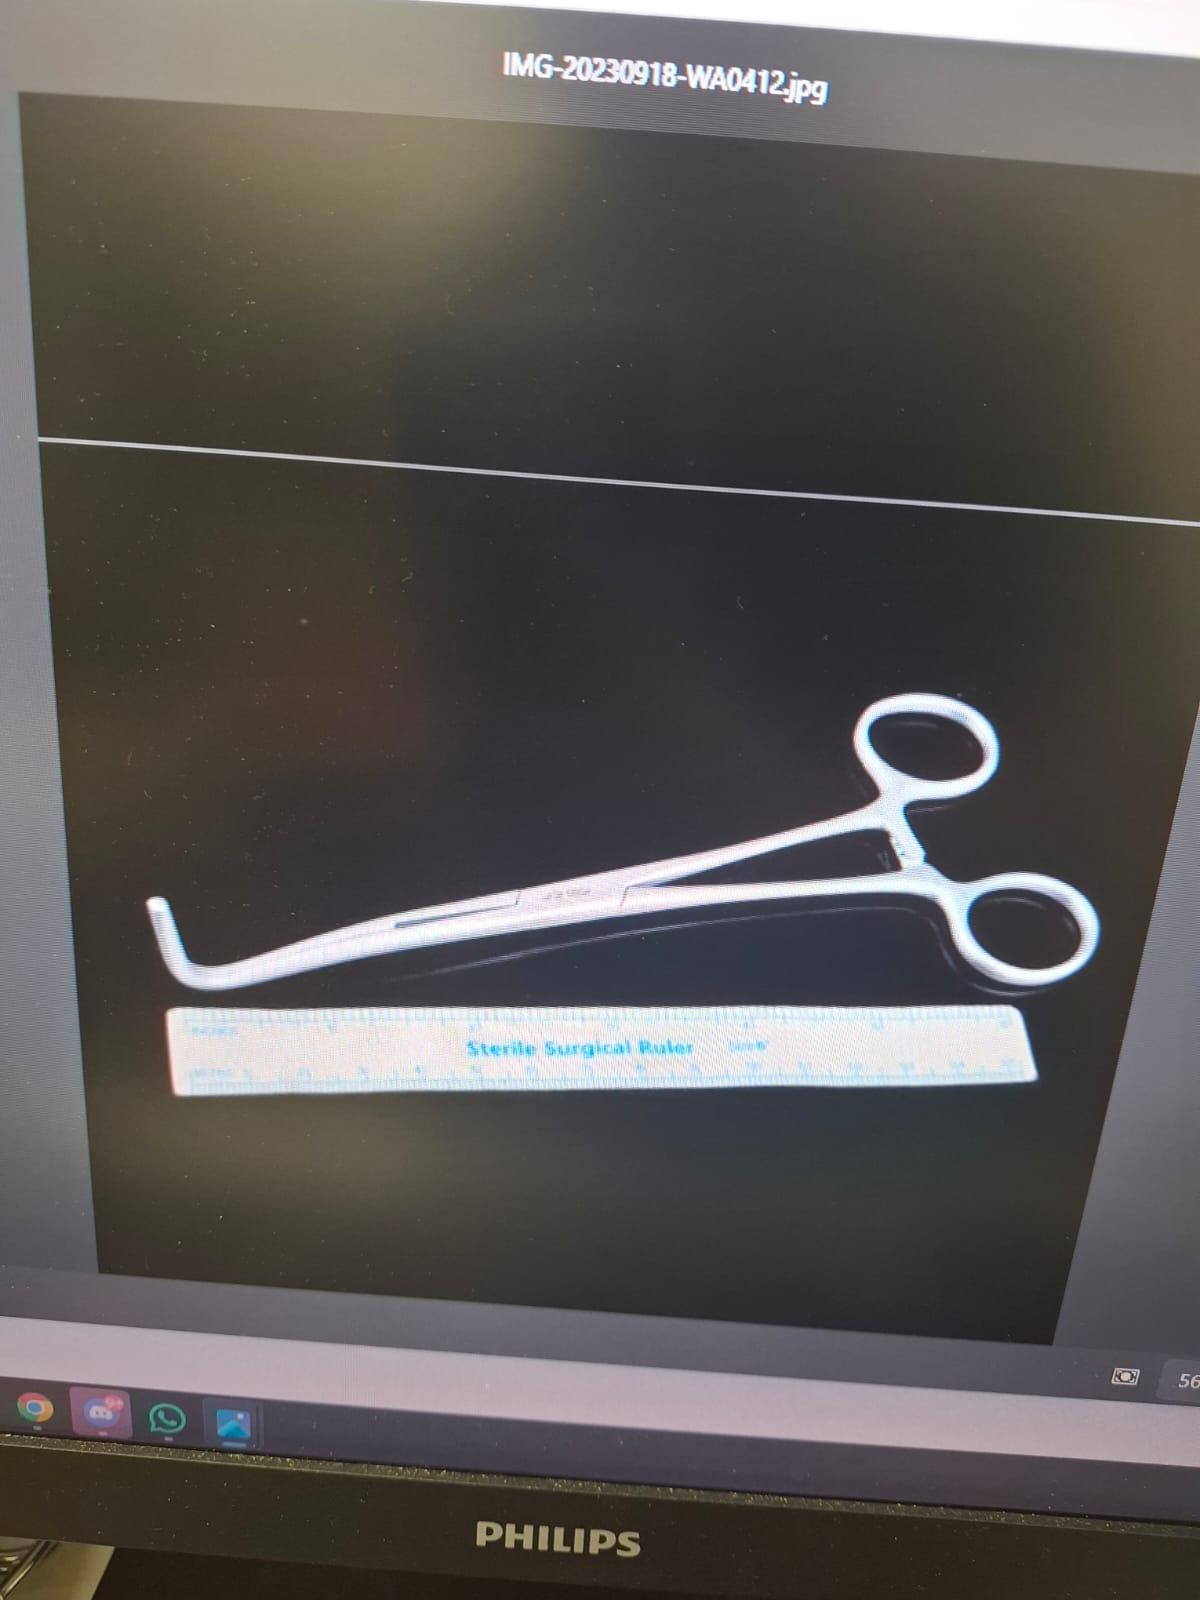Rectangle Cholecystectomy Forceps: (127, 660, 1129, 1018)
